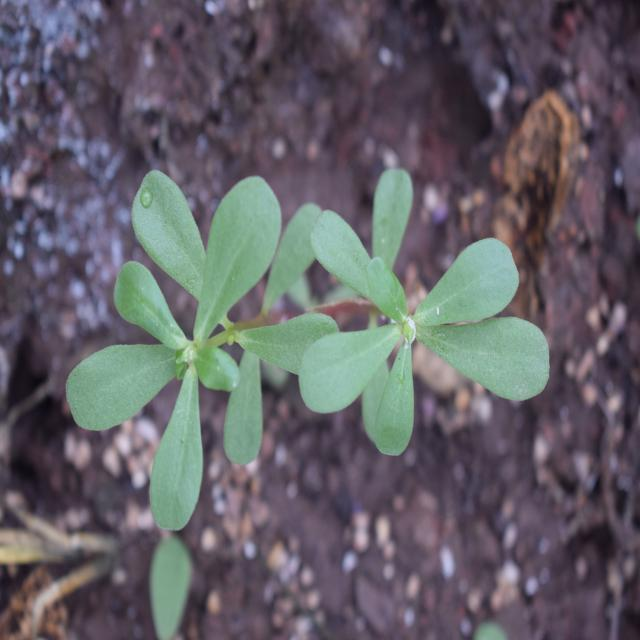purslane: (46, 134, 565, 516)
